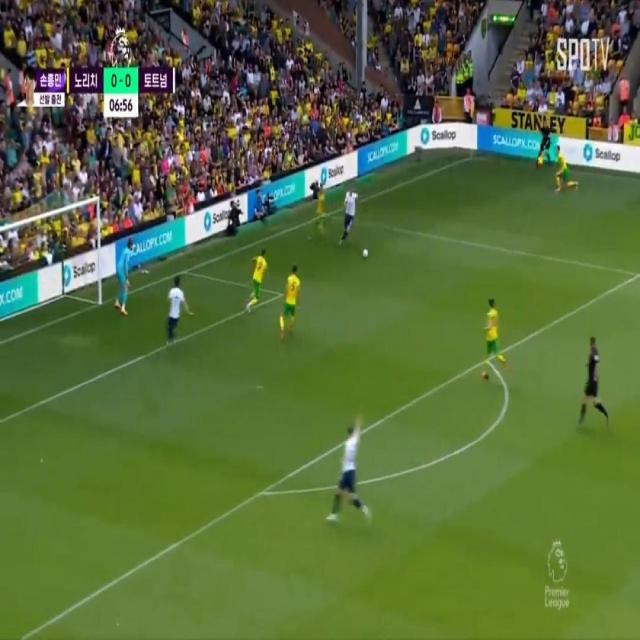ball: (361, 248, 369, 256)
goalkeeper: (110, 235, 138, 321)
player: (336, 416, 362, 515), (480, 295, 503, 378), (283, 263, 305, 331), (167, 262, 184, 342), (249, 245, 268, 311), (552, 146, 574, 201), (344, 181, 362, 240), (315, 185, 328, 240)
referee: (583, 330, 603, 425), (538, 106, 555, 170)
